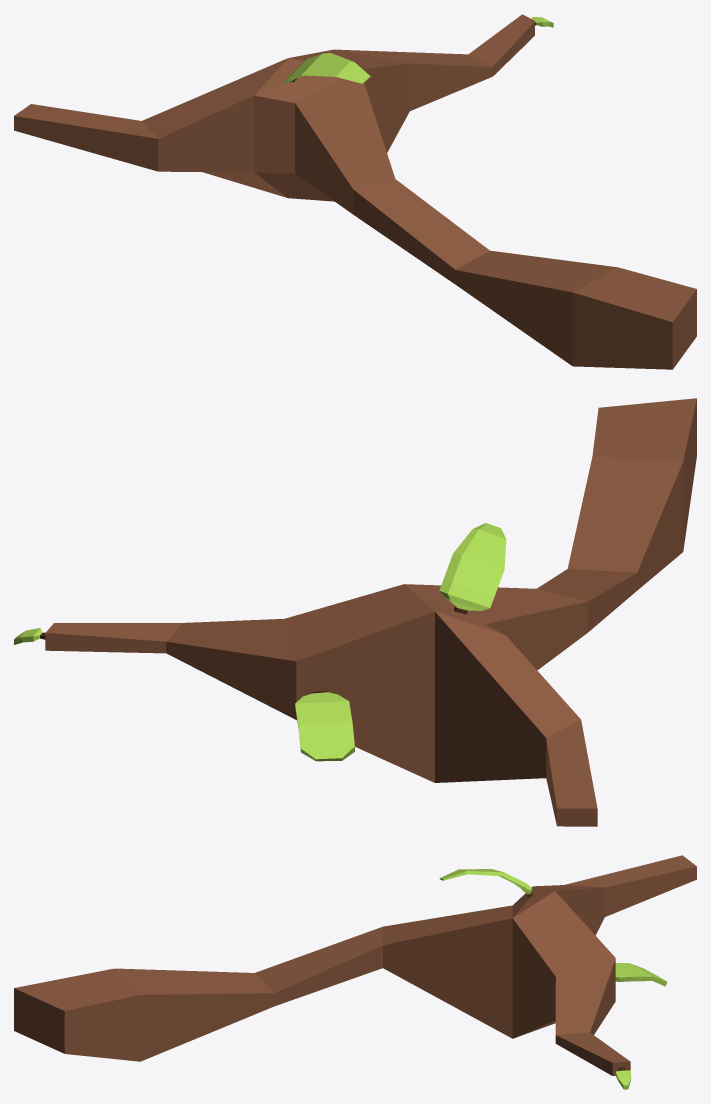
The model's file is stick.glb.
3 renders of one model, top to bottom at view 1: azimuth 30°, elevation 25°; view 2: azimuth 150°, elevation 25°; view 3: azimuth 270°, elevation 25°, orthographic. The views are drawn at different scales.
Parts seen in each view (by area): view 1: Stick; view 2: Stick; view 3: Stick.
Part boxes in pixels (<box>): Stick: <box>14,14,696,369</box>; Stick: <box>14,398,696,826</box>; Stick: <box>14,855,696,1089</box>.
Size of the model in its own units: 0.7186 by 0.2279 by 0.9274.
1 material, 1 textured.
